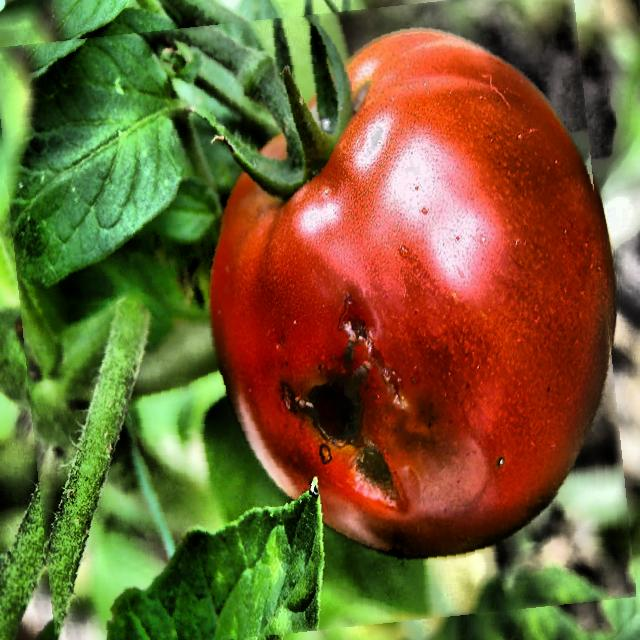tomato: (8, 0, 621, 640)
